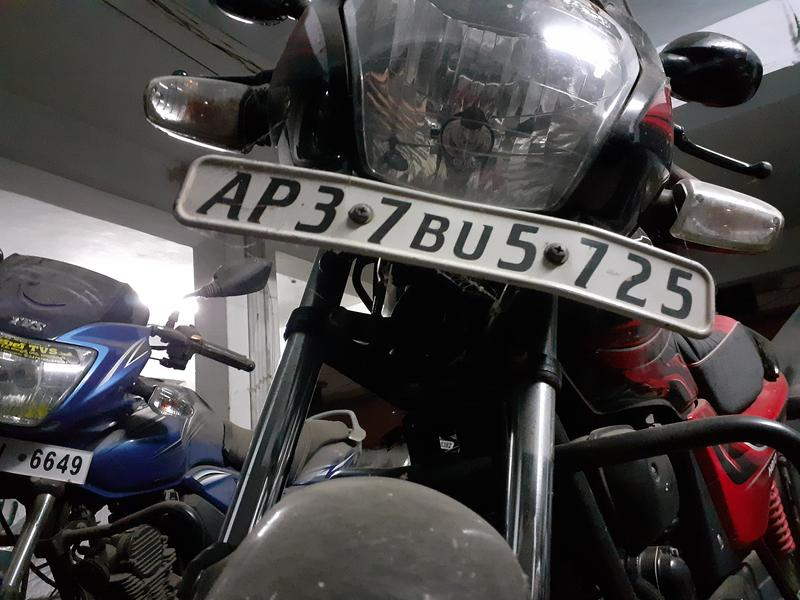numberplate: (178, 142, 714, 338)
